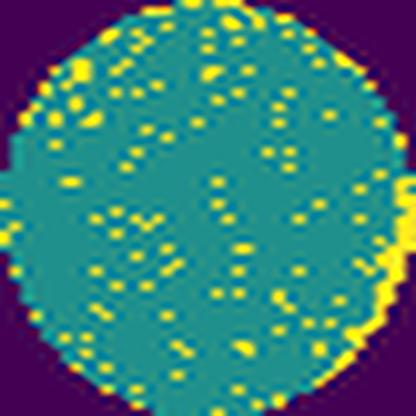Edge-Loc: (304, 161, 415, 416)
